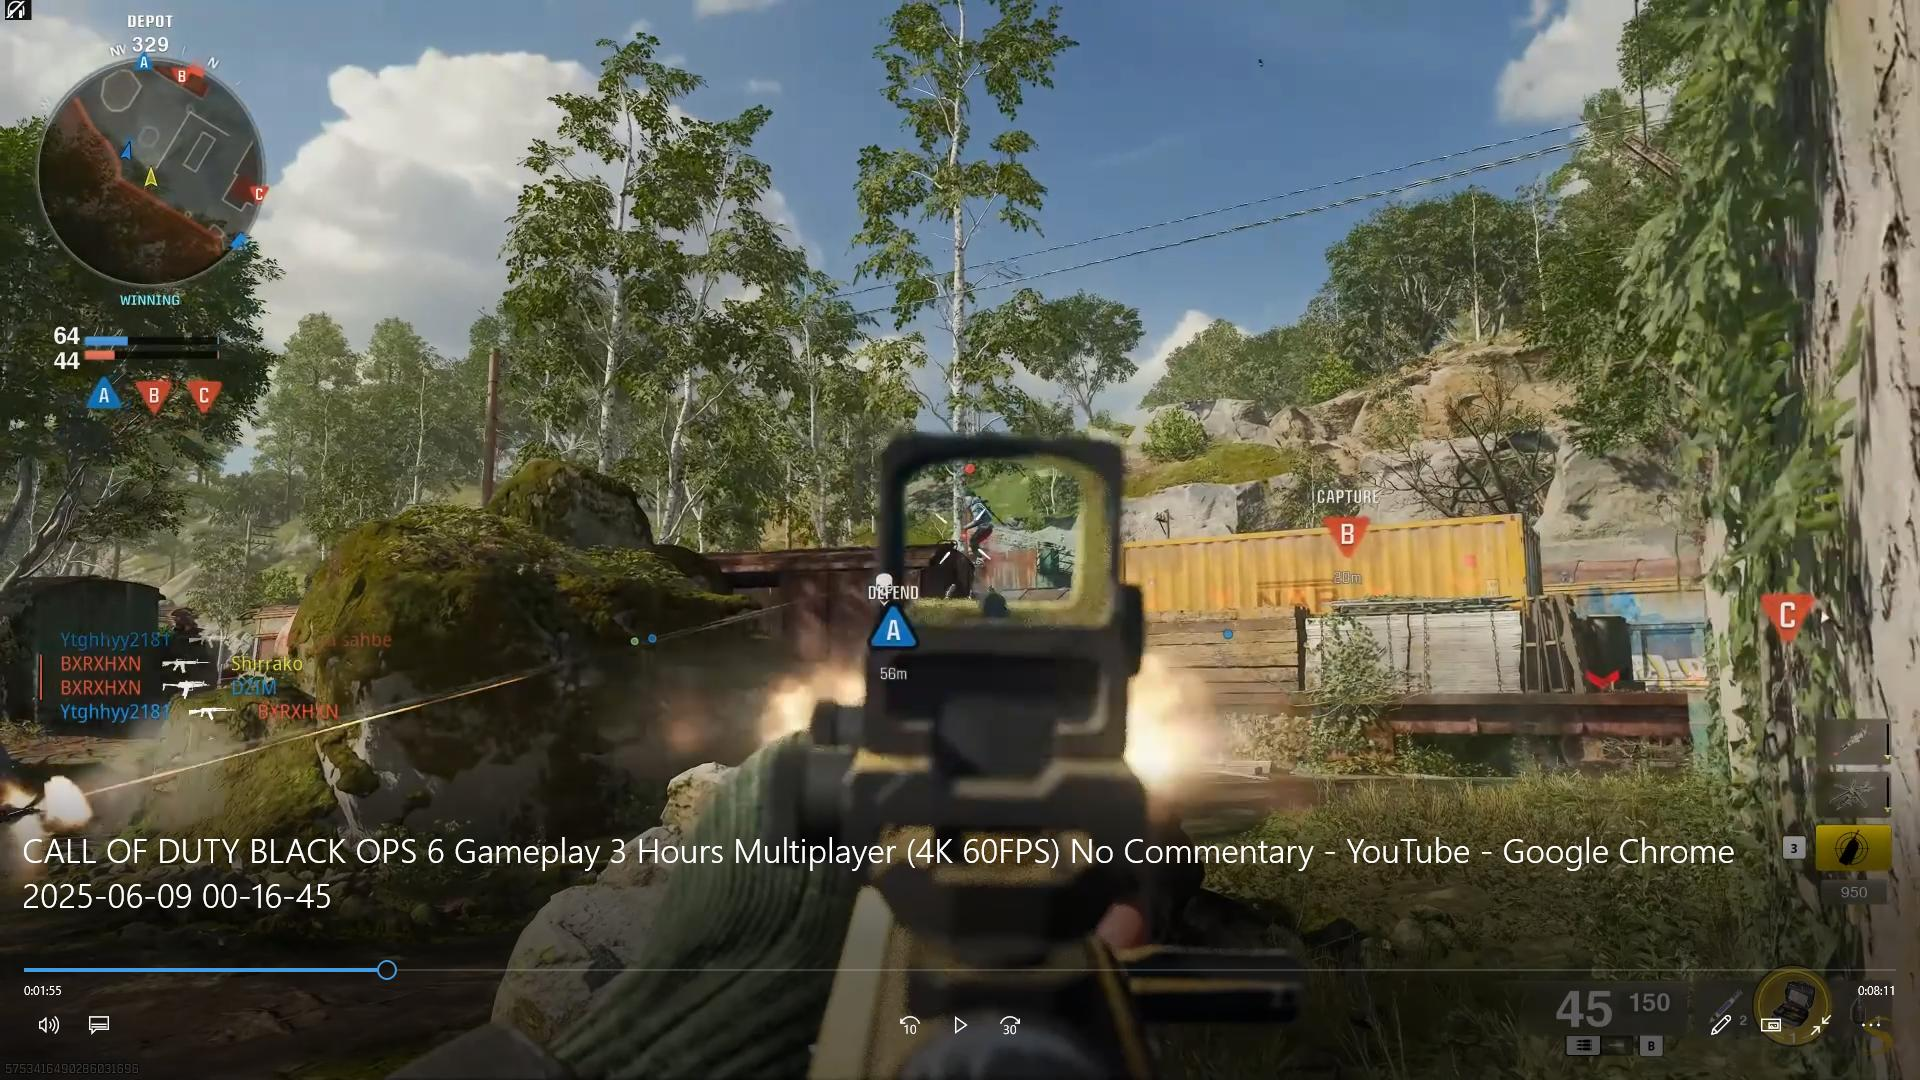Enemy: (959, 491, 997, 564)
